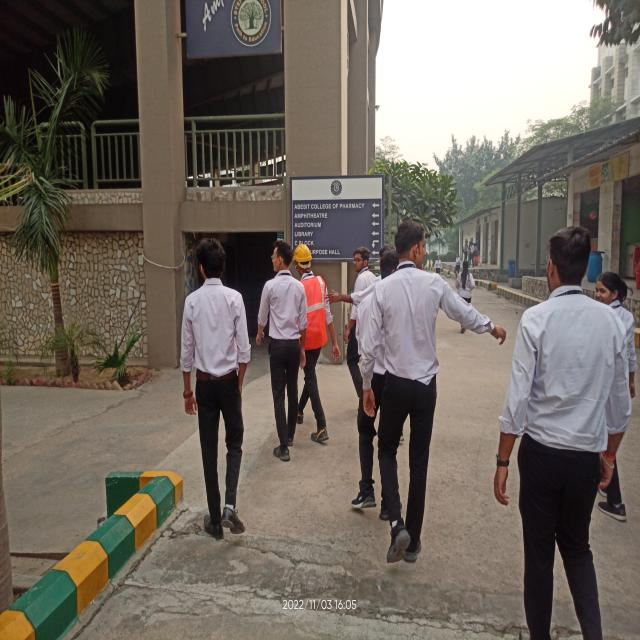safe: (295, 243, 335, 443)
unsafe: (502, 227, 613, 634), (374, 224, 450, 566), (180, 232, 252, 546), (257, 242, 302, 463), (600, 268, 636, 523), (348, 249, 377, 367), (457, 264, 480, 333)
